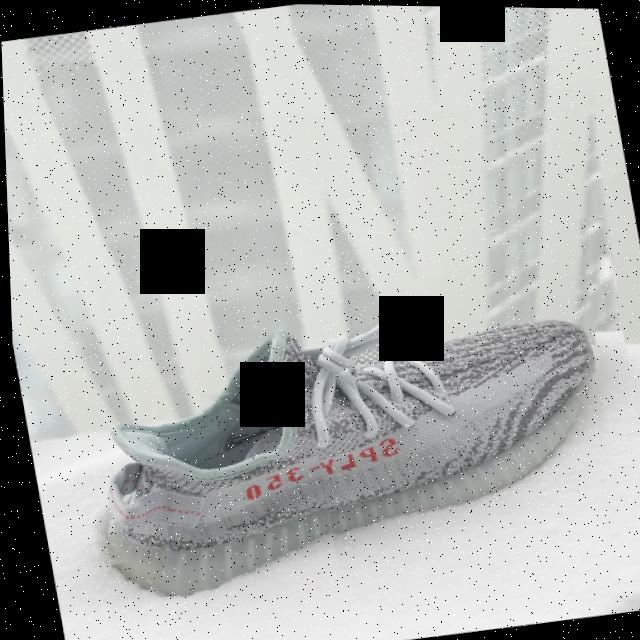shoe: (18, 207, 640, 629), (280, 216, 640, 633)
